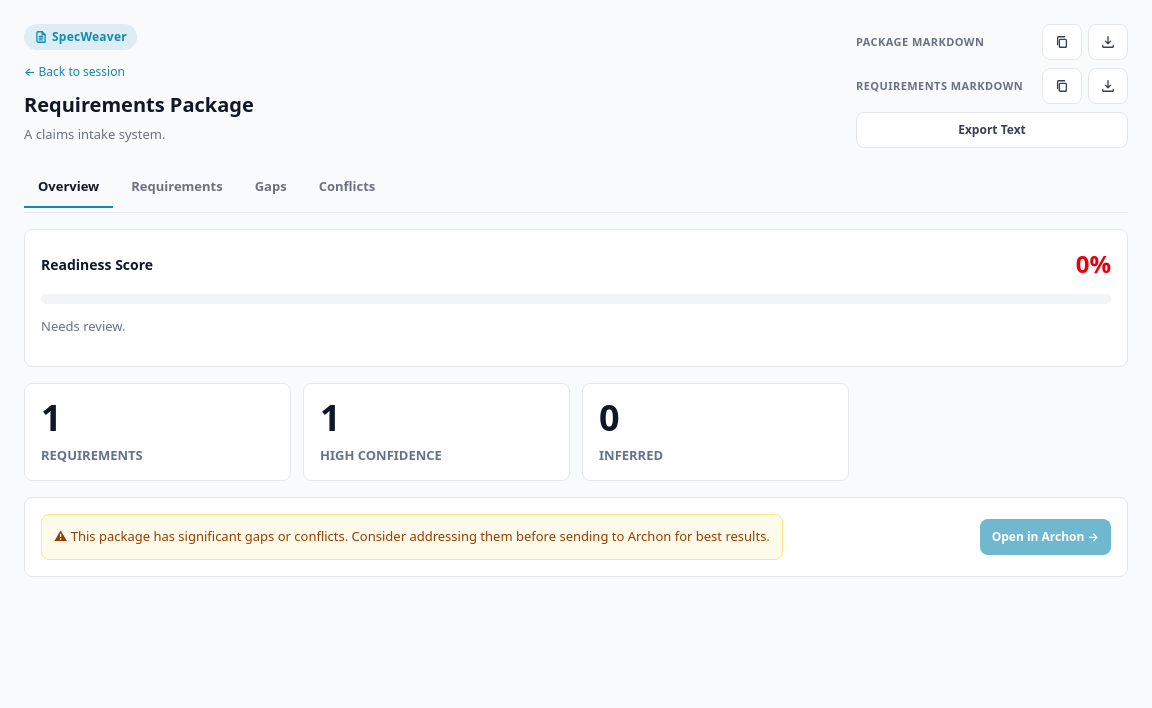
Test case: SpecWeaver views › PackageDetailView_groupsRequirementsByCategory
What coordinates should you click on to do the following:
click the tab "Requirements"
I would click on:
 (177, 188)
Its box is [117, 168, 237, 208].
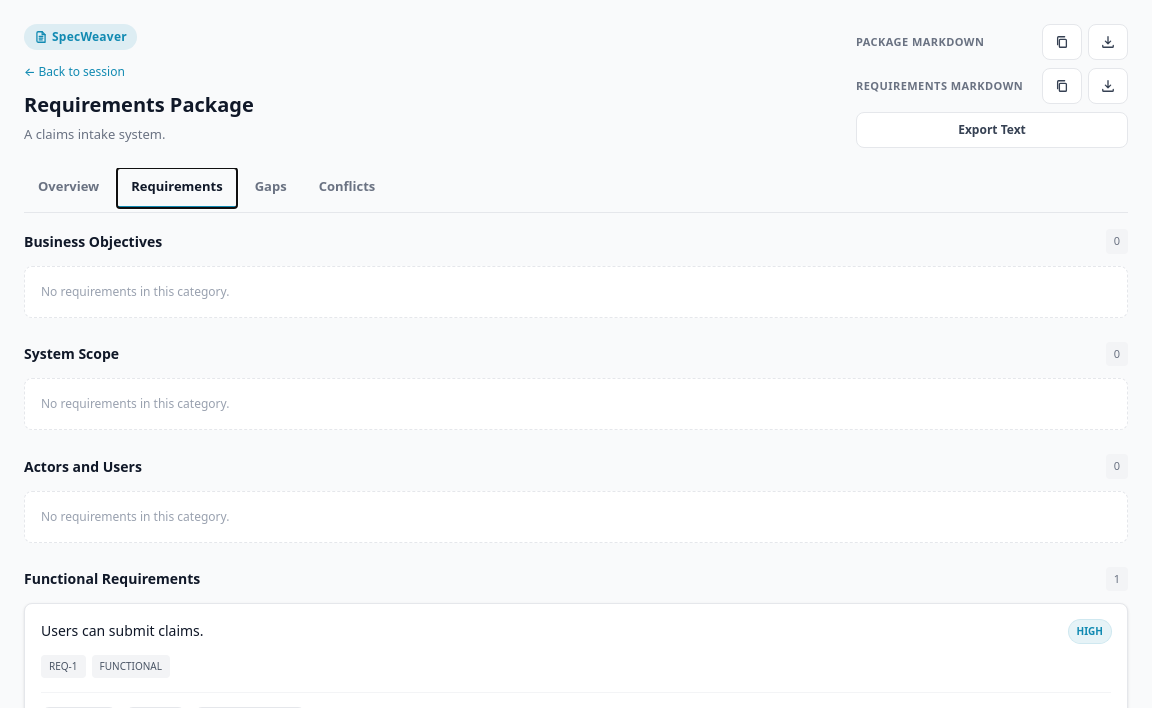
Check: the heading "Functional Requirements" is shown, box [24, 568, 200, 589]
Check: the text "Users can submit claims." is shown, box [41, 620, 204, 643]
